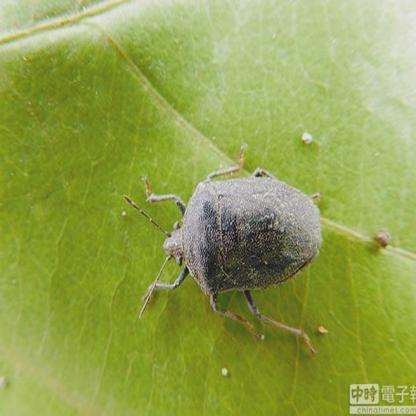rice-bug: (139, 154, 325, 330)
